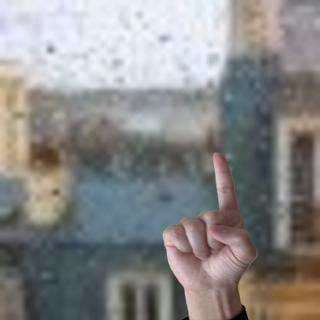IRRITATED: (157, 149, 259, 295)
